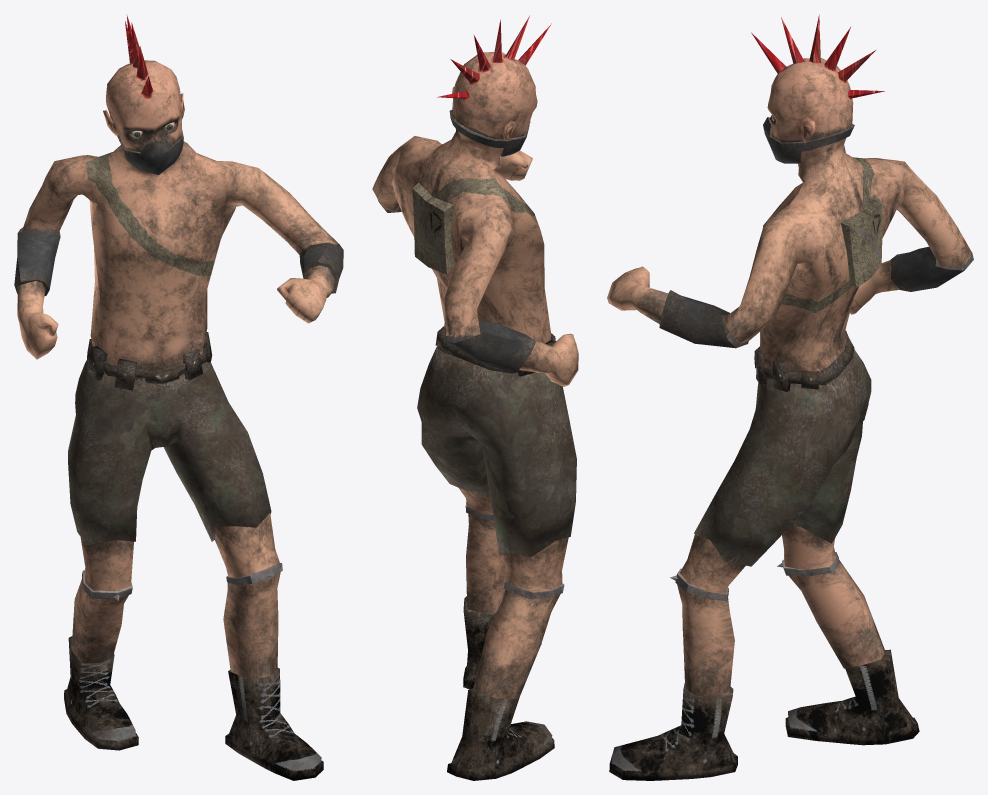
File: Anim_ataque_d1_npc2.0017.obj
The picture shows the model from 3 angles, left to right: view 1: azimuth 30°, elevation 25°; view 2: azimuth 150°, elevation 25°; view 3: azimuth 270°, elevation 25°; orthographic projection. The views are drawn at different scales.
Parts seen in each view (by area): view 1: polySurface1; view 2: polySurface1; view 3: polySurface1.
Boxes of the visible parts, x1,y1,x2,y2 form: polySurface1: (14, 14, 343, 780); polySurface1: (372, 15, 578, 780); polySurface1: (607, 15, 973, 780).
Size of the model in its own units: 3.69 by 9.86 by 4.5.
